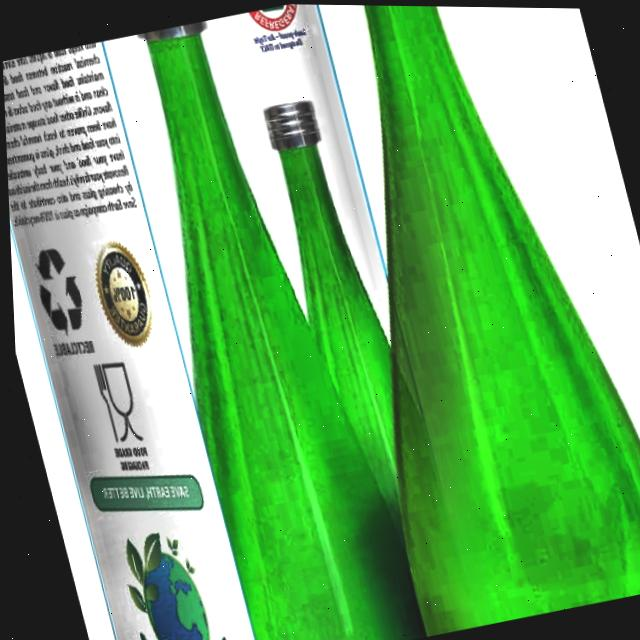glass: (262, 3, 640, 638)
